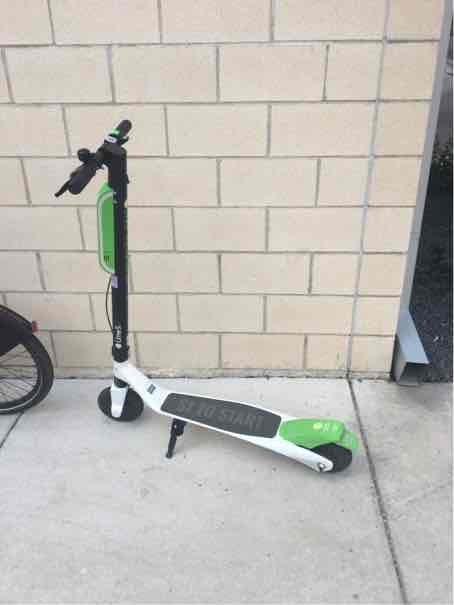scooter: (44, 100, 368, 480)
